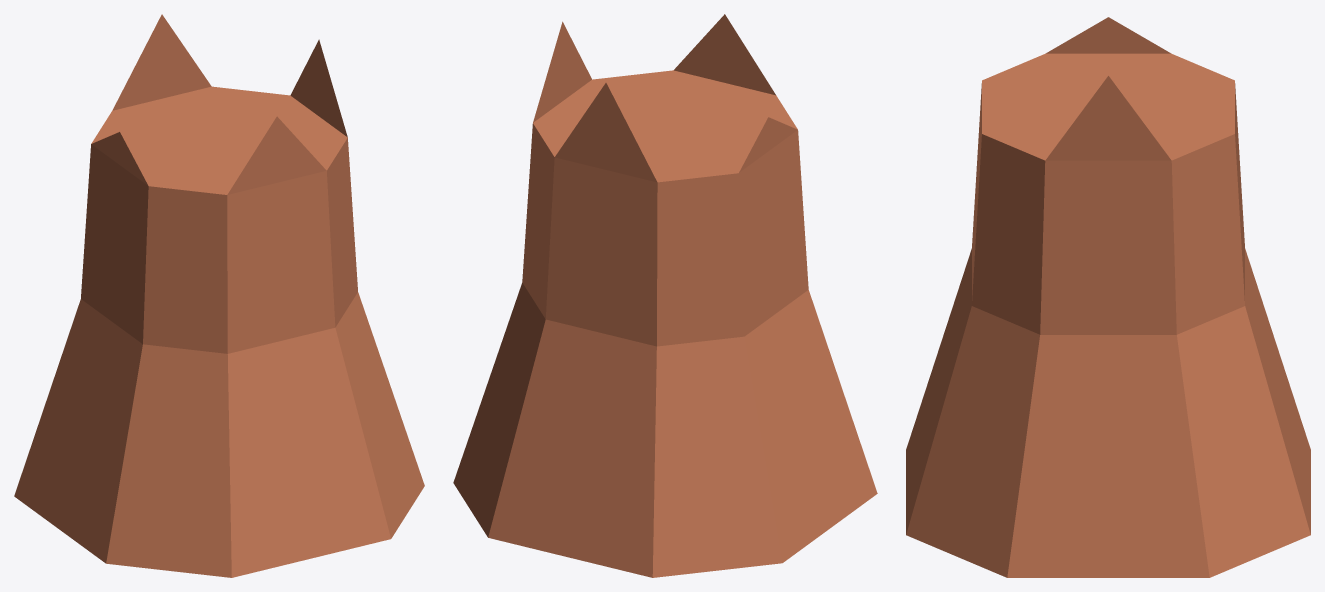
The model's file is tree-trunk.obj.
3 renders of one model, left to right at view 1: azimuth 30°, elevation 25°; view 2: azimuth 150°, elevation 25°; view 3: azimuth 270°, elevation 25°, orthographic. The views are drawn at different scales.
Size of the model in its own units: 0.2 by 0.2608 by 0.2.
